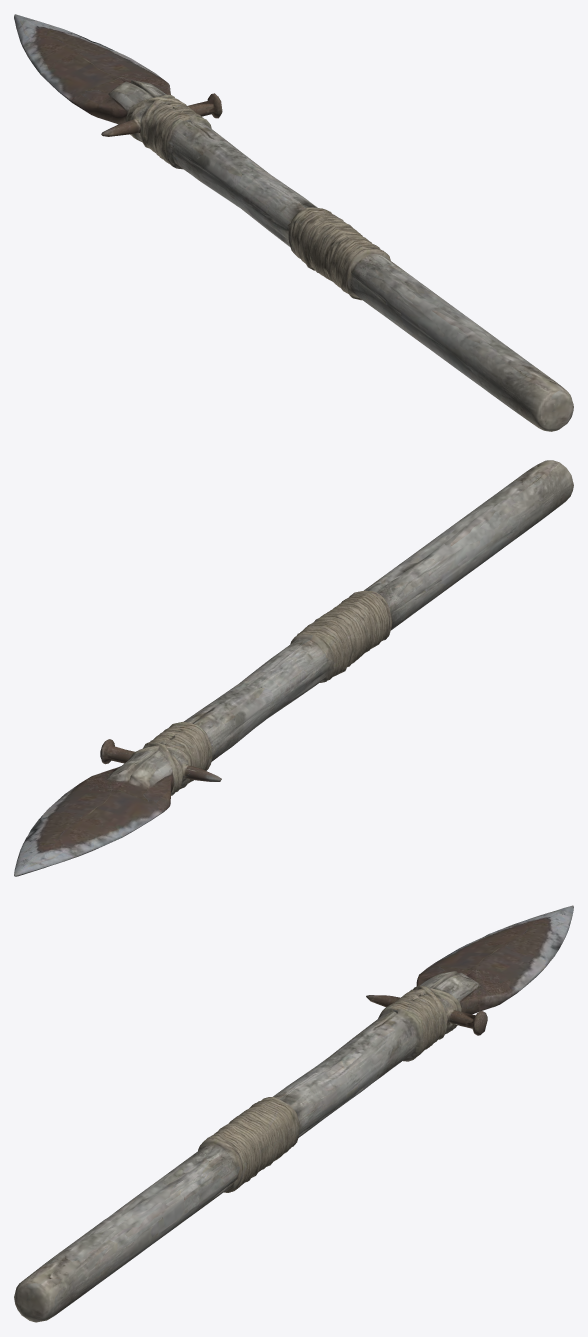
The model's file is short_spear.0dae813e.glb.
3 views of the same model, one above another, from view 1: azimuth 30°, elevation 25°; view 2: azimuth 150°, elevation 25°; view 3: azimuth 330°, elevation 25° (orthographic).
Visible parts, largest first — view 1: item; view 2: item; view 3: item.
Part boxes in pixels (left/top/right/bottom): item: left=14, top=14, right=573, bottom=431; item: left=14, top=460, right=573, bottom=876; item: left=14, top=905, right=573, bottom=1322.
Bounding box in the file's own units: 0.1765 × 0.0779 × 1.4.
Materials: 1 (1 with a texture image).
